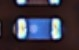COMP: (10, 13, 68, 43)
GAP: (17, 1, 60, 28)
